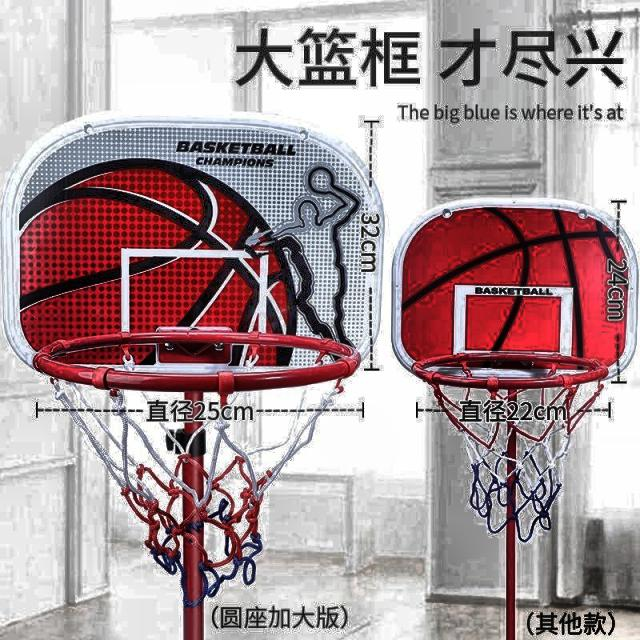rim: (28, 335, 355, 591), (410, 352, 610, 540)
